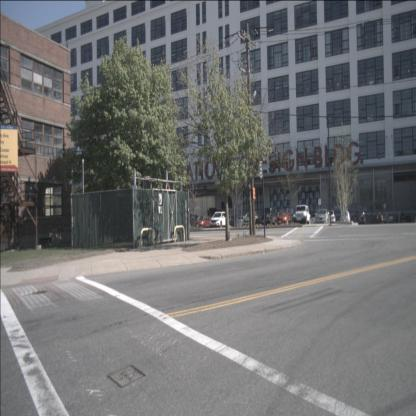vehicle-car: (53, 227, 76, 246), (292, 205, 310, 224), (209, 212, 229, 228), (242, 211, 260, 228), (314, 208, 330, 224), (262, 208, 277, 225), (276, 210, 291, 225), (255, 213, 271, 227), (186, 213, 200, 228), (196, 216, 211, 229), (354, 210, 366, 225), (324, 209, 336, 224), (400, 209, 412, 224), (372, 210, 384, 224), (225, 214, 237, 226), (235, 215, 247, 227), (340, 210, 350, 224), (384, 211, 394, 223)
